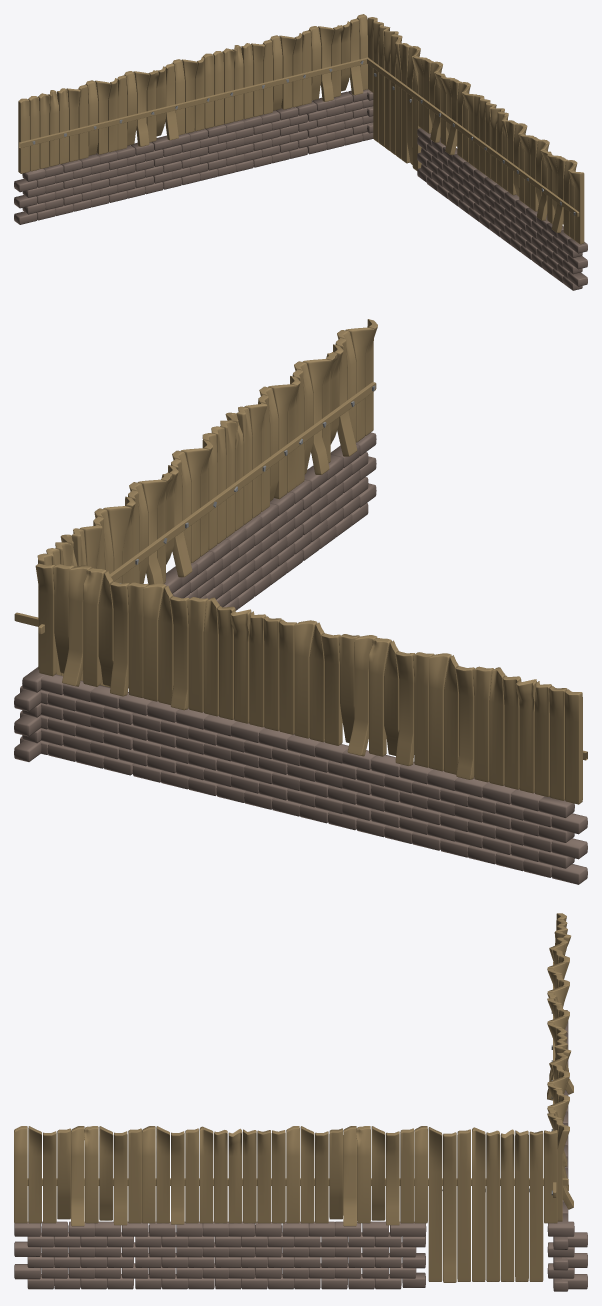
File: M_Pared ladrillos y madera.fbx
3 views of the same model, one above another, from view 1: azimuth 30°, elevation 25°; view 2: azimuth 150°, elevation 25°; view 3: azimuth 270°, elevation 25° (orthographic). The views are drawn at different scales.
Parts seen in each view (by area): view 1: WallWood_pPlane23; view 2: WallWood_pPlane23; view 3: WallWood_pPlane23.
Part boxes in pixels (x1,y1,x2,y2): WallWood_pPlane23: (14, 14, 587, 290); WallWood_pPlane23: (14, 319, 587, 884); WallWood_pPlane23: (14, 913, 587, 1291).
Bounding box in the file's own units: 114 × 35.64 × 119.
